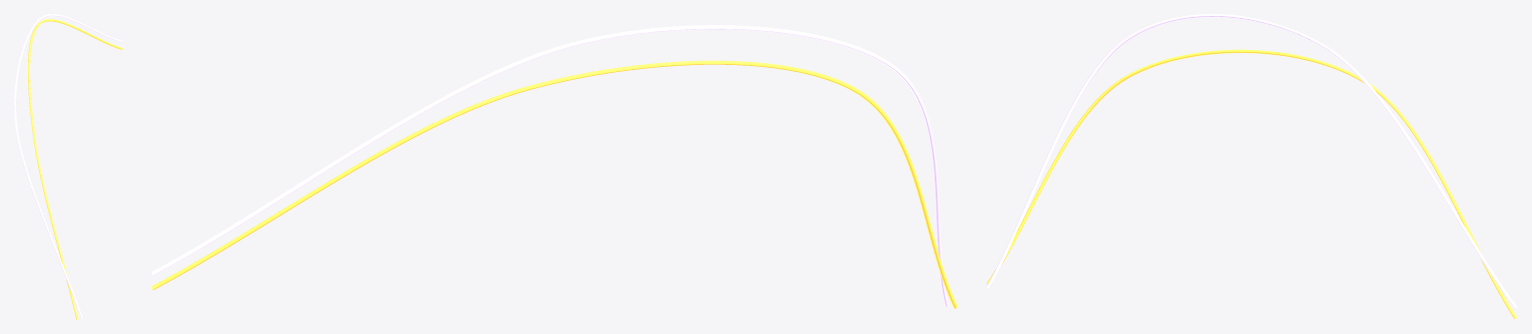
3 renders of one model, left to right at view 1: azimuth 30°, elevation 25°; view 2: azimuth 150°, elevation 25°; view 3: azimuth 270°, elevation 25°, orthographic. The views are drawn at different scales.
Visible parts, largest first — view 1: Reply path, Command path; view 2: Reply path, Command path; view 3: Reply path, Command path.
Boxes of the visible parts, x1=… form: Reply path: x1=14, y1=14, x2=122, y2=318; Command path: x1=28, y1=19, x2=122, y2=319; Reply path: x1=151, y1=25, x2=948, y2=306; Command path: x1=151, y1=60, x2=957, y2=308; Reply path: x1=986, y1=14, x2=1516, y2=308; Command path: x1=986, y1=49, x2=1517, y2=319.
Bounding box in the file's own units: 5.32 × 4.21 × 6.84.
